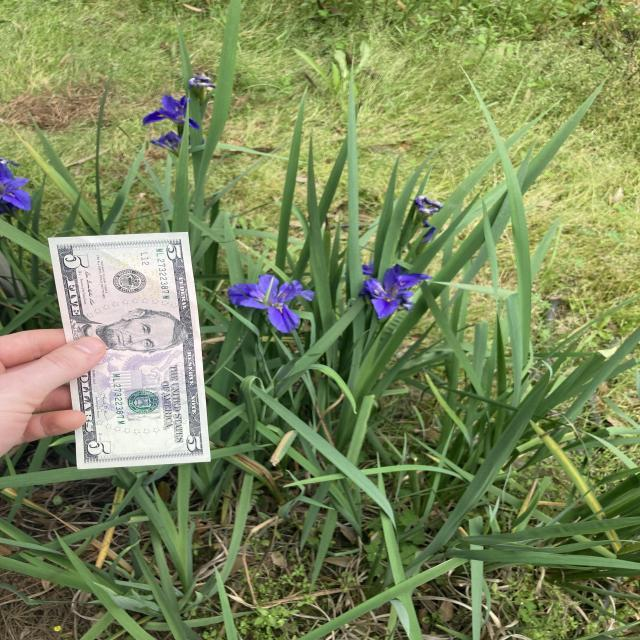five: (48, 231, 211, 470)
